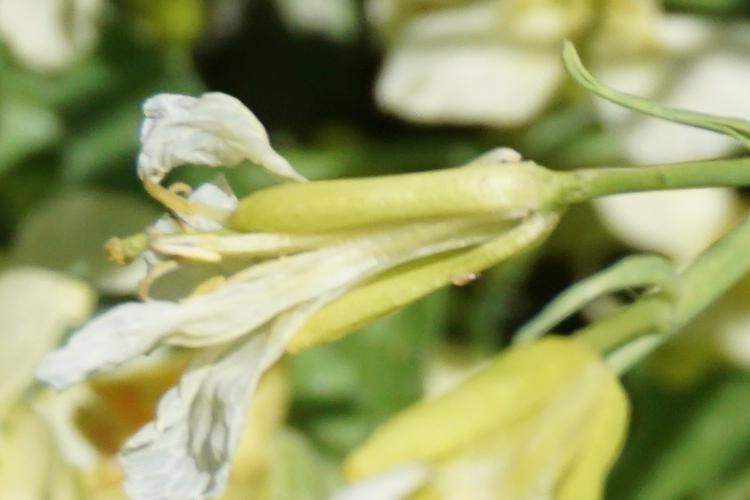white: (66, 89, 588, 443)
